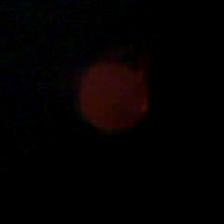fertile: (72, 54, 151, 136)
